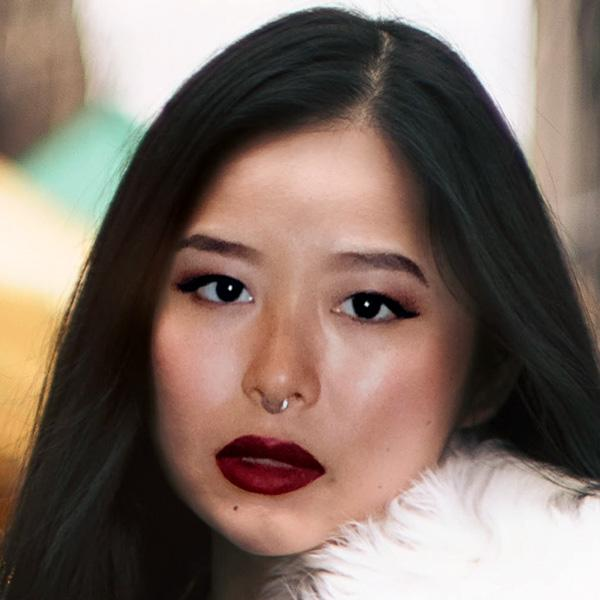Eyes: (322, 279, 419, 342), (175, 259, 262, 314)
